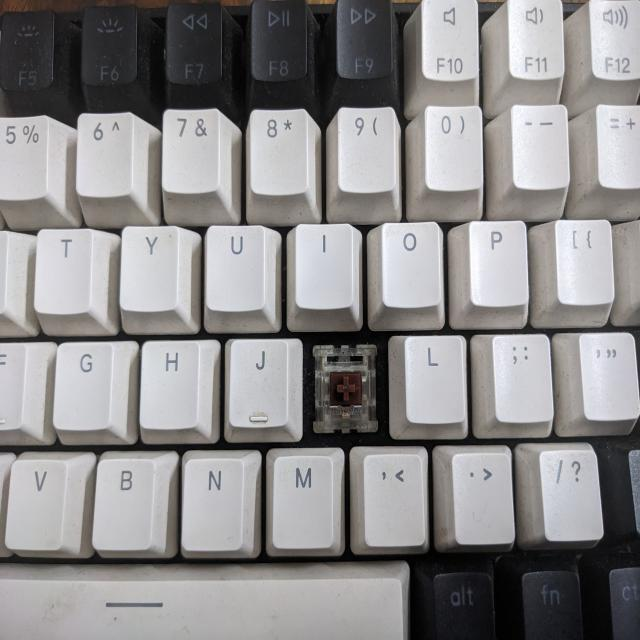key-switch: (310, 340, 382, 436)
